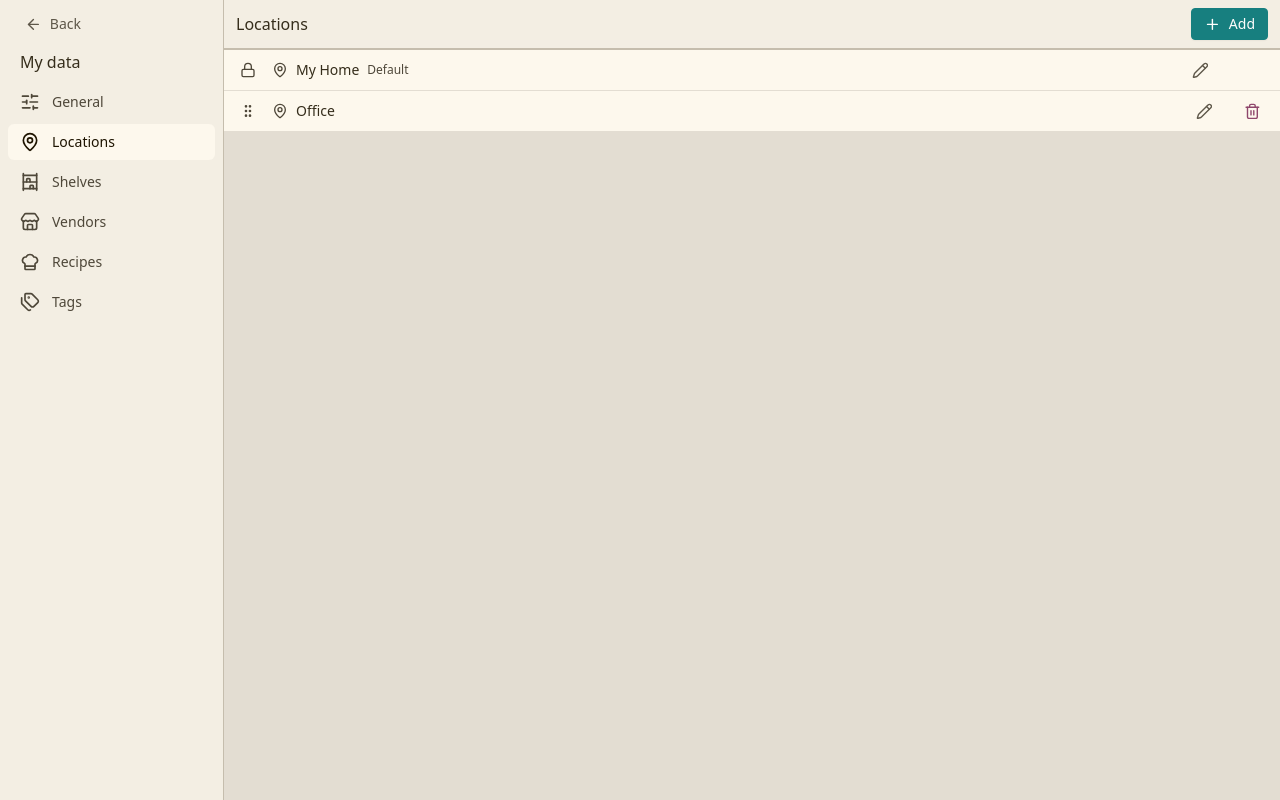
Scenario: Settings locations page › user can rename a location
Expected: the text "Office" is shown, [296,102,335,120]
When the user clicks rename, changes the name, and saves
Click the button named "rename office": click(1204, 111) [1188,95,1220,127]
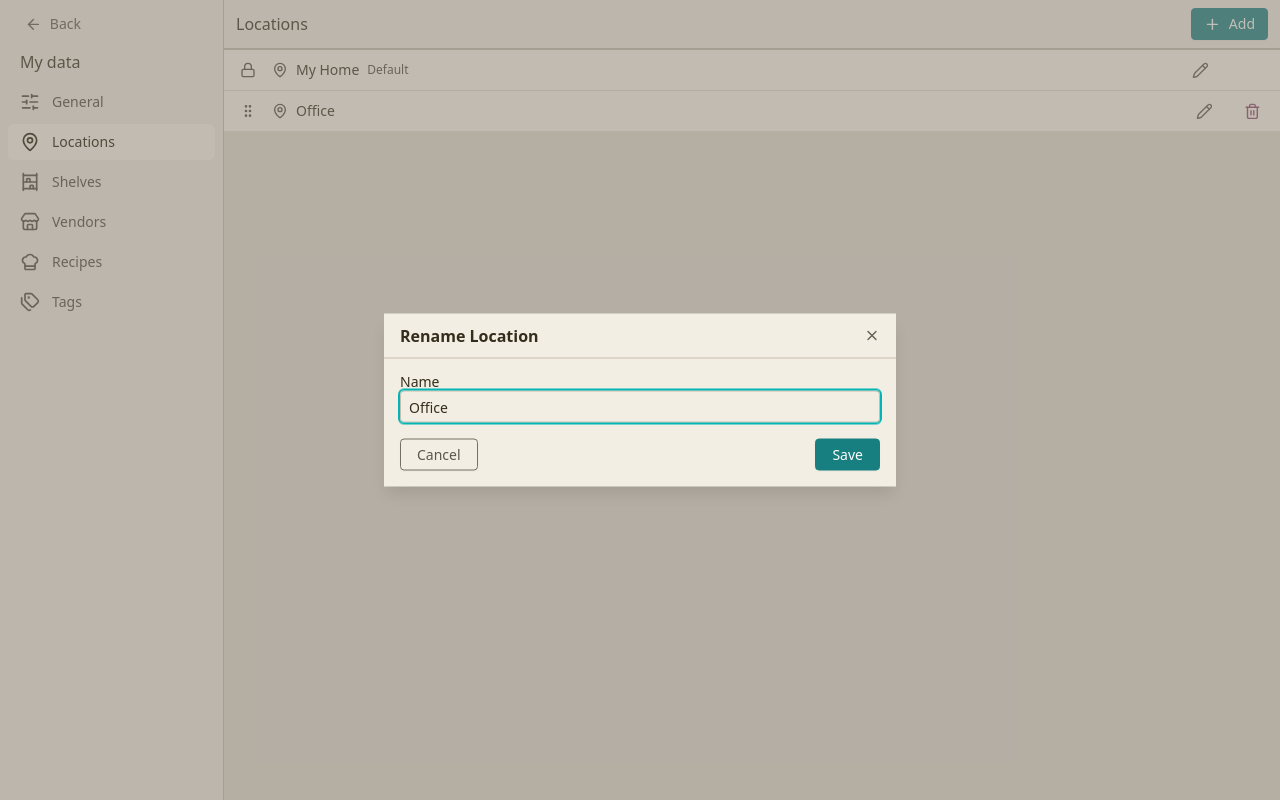
Clear the field labelled "Name": (640, 406) [400,390,880,422]
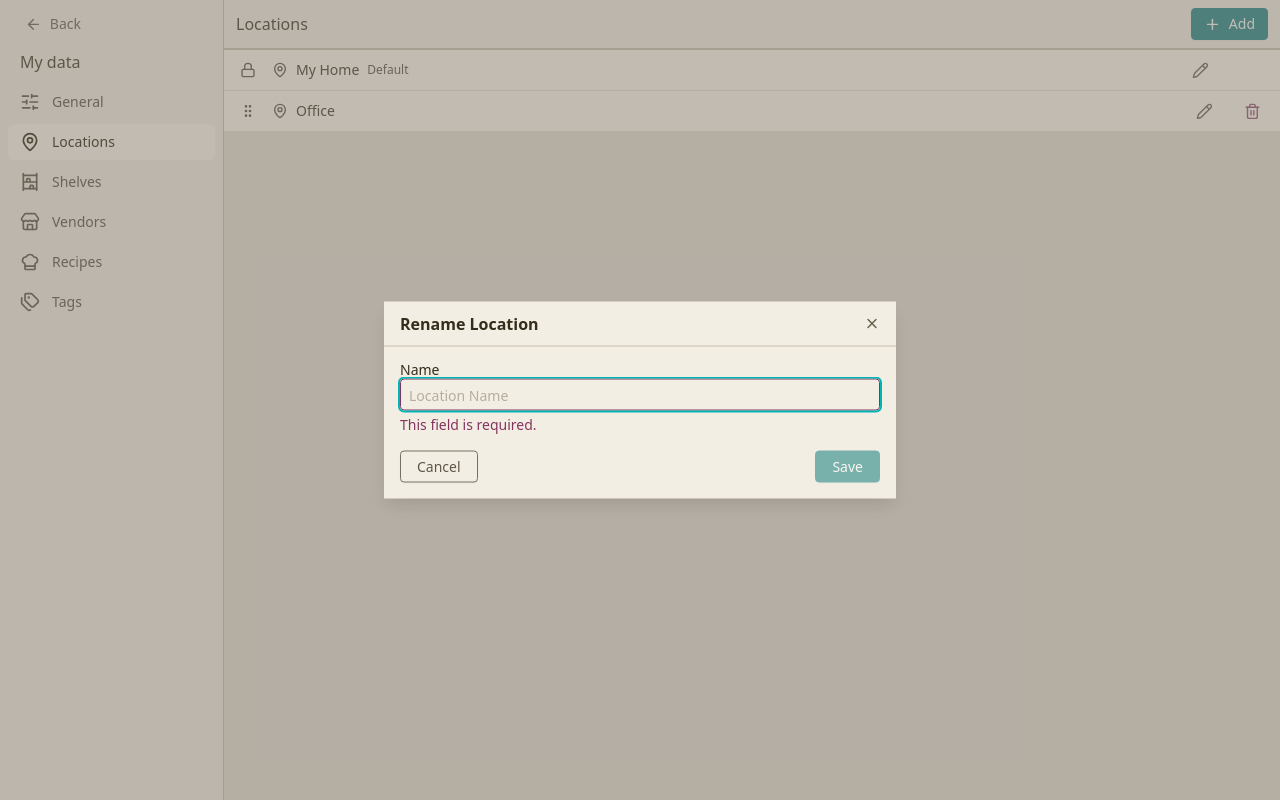
In the field labelled "Name": (640, 394) [400,378,880,410], type "Studio"
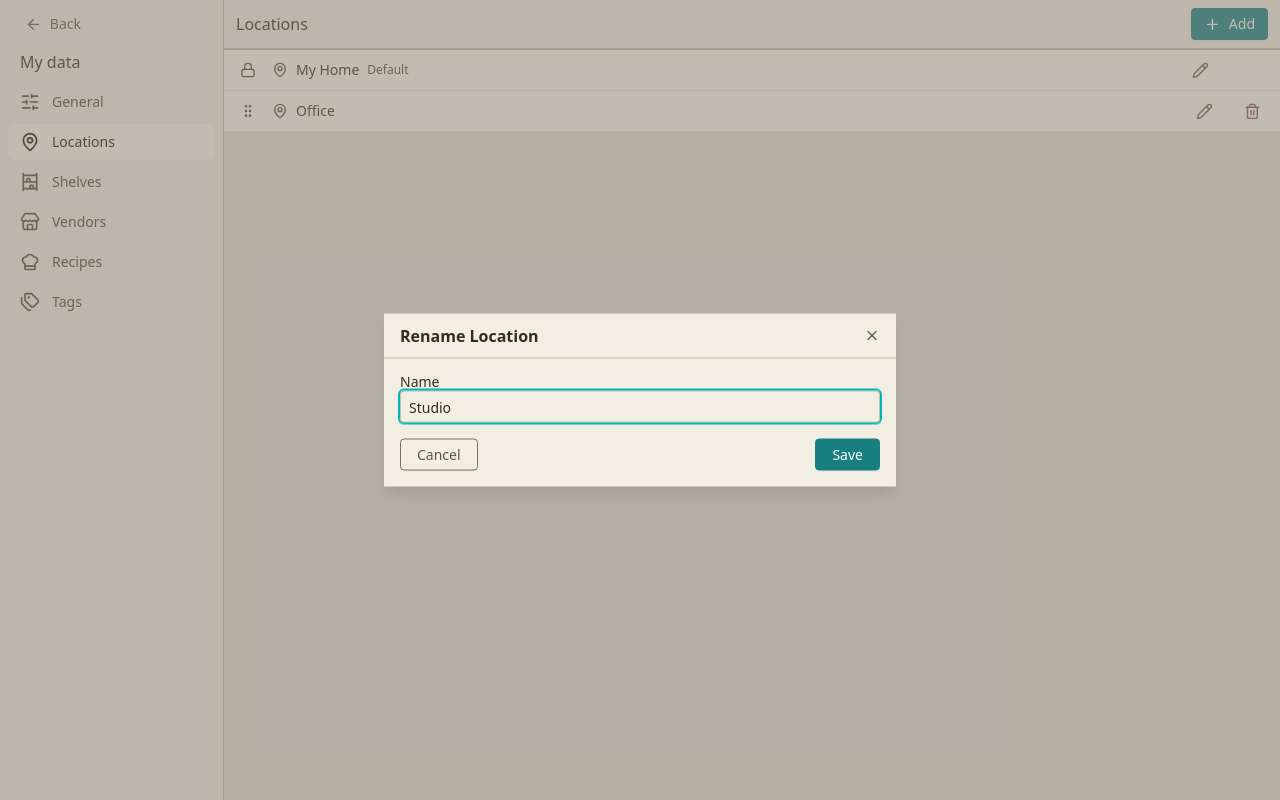
Click the button "Save": click(848, 454) [815,438,880,470]
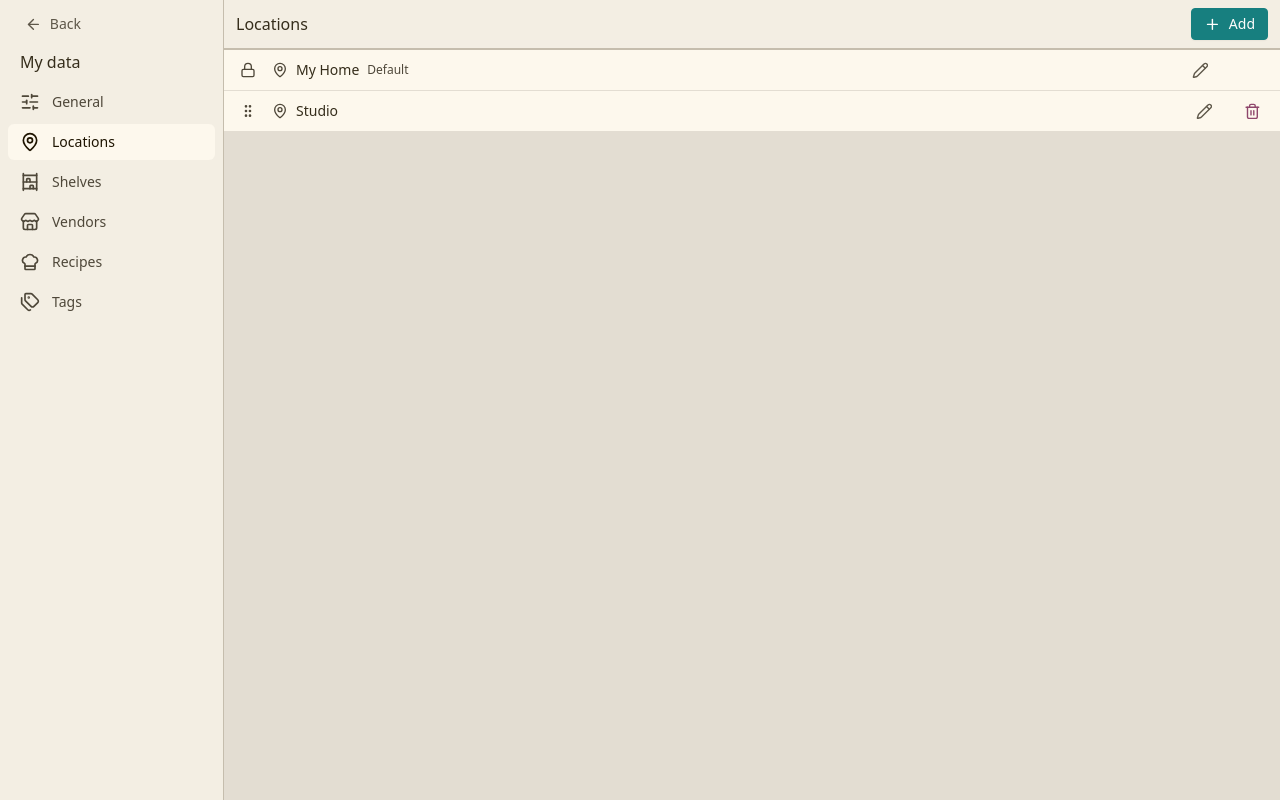
Result: the text "Studio" is shown at [296,102,338,120]
